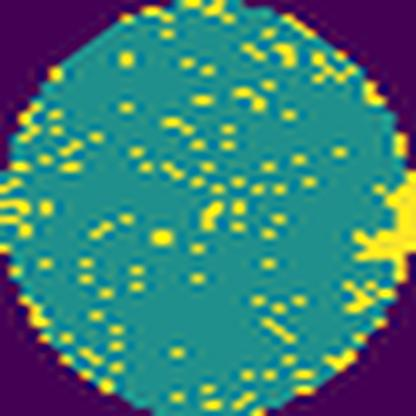Edge-Loc: (351, 158, 416, 284)
